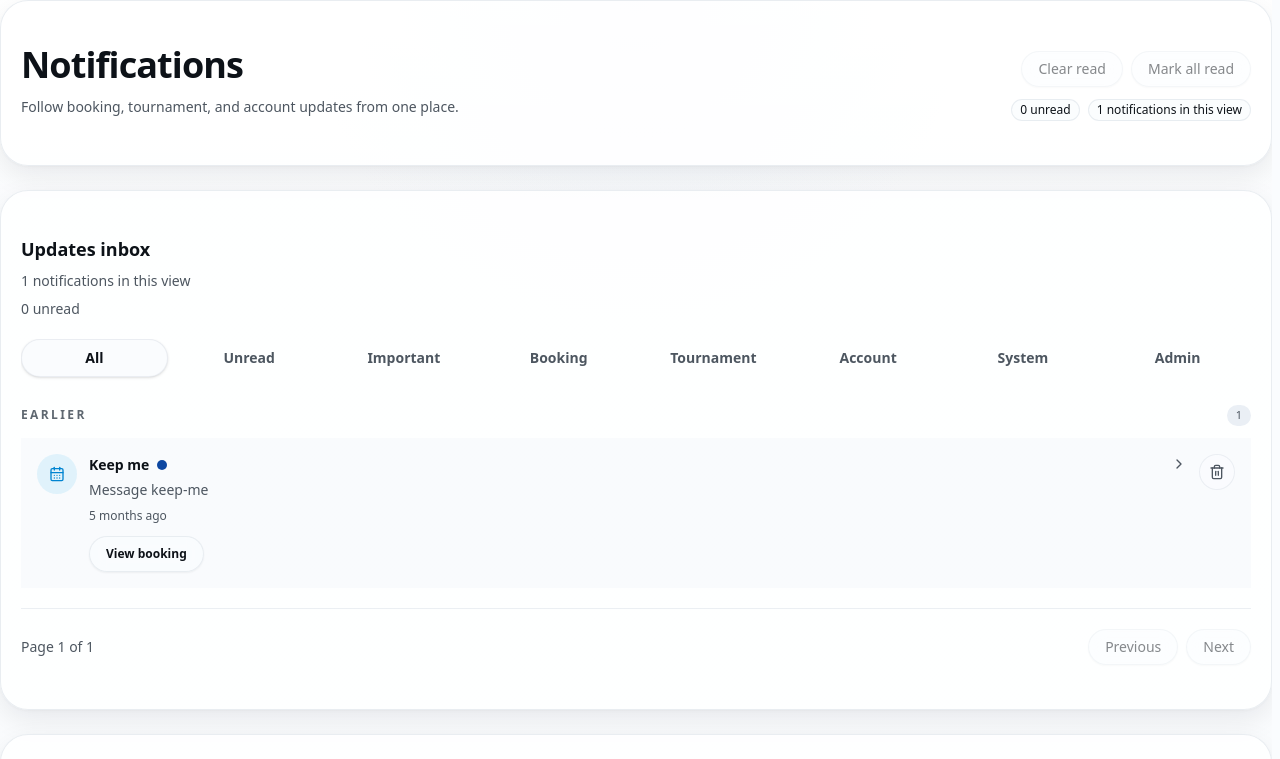
Scenario: NotificationsPage › keeps a notification when delete confirmation is cancelled
The width and height of the screenshot is (1280, 759).
Expected: the button "Keep me Message keep-me 5 months ago" is shown, [37,454,1187,524]
Step 1. Click the button named "Delete notification" → [1217, 472], box [1199,454,1235,490]
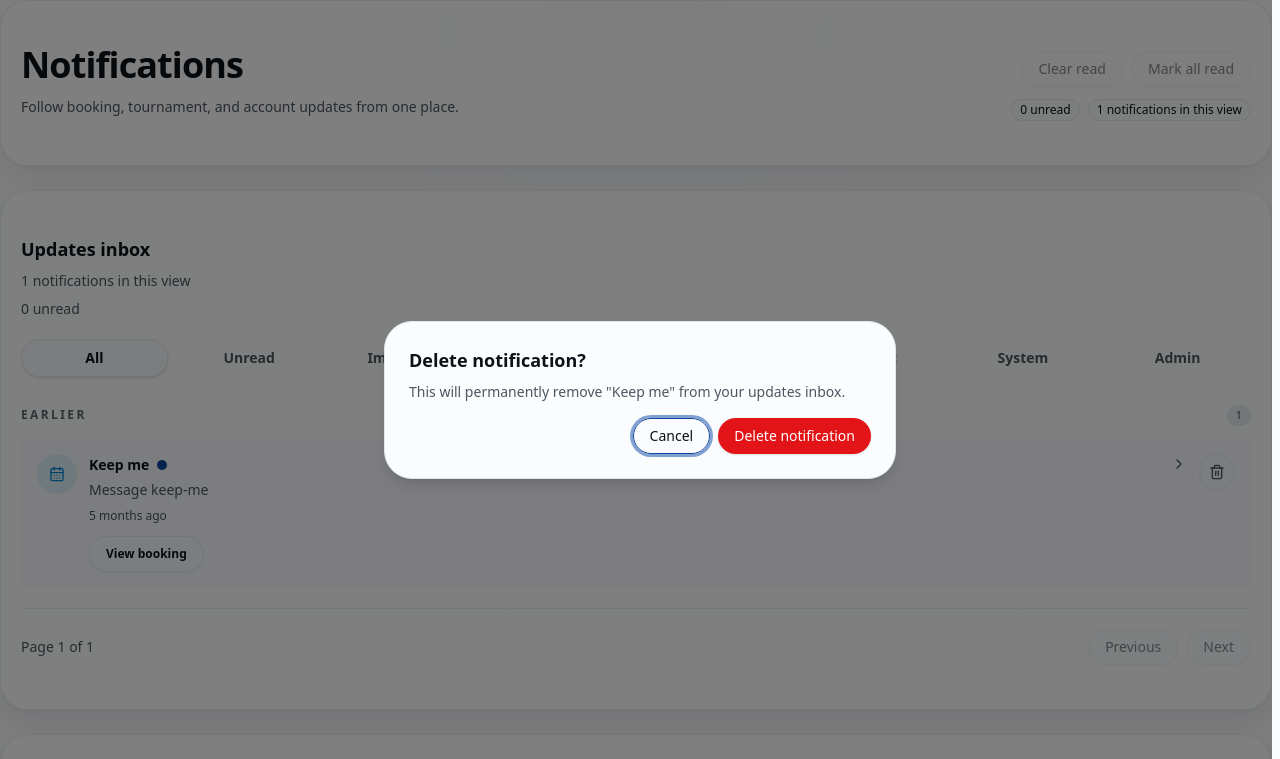
Step 2. Click the button "Cancel" → [671, 436], box [633,418,710,454]
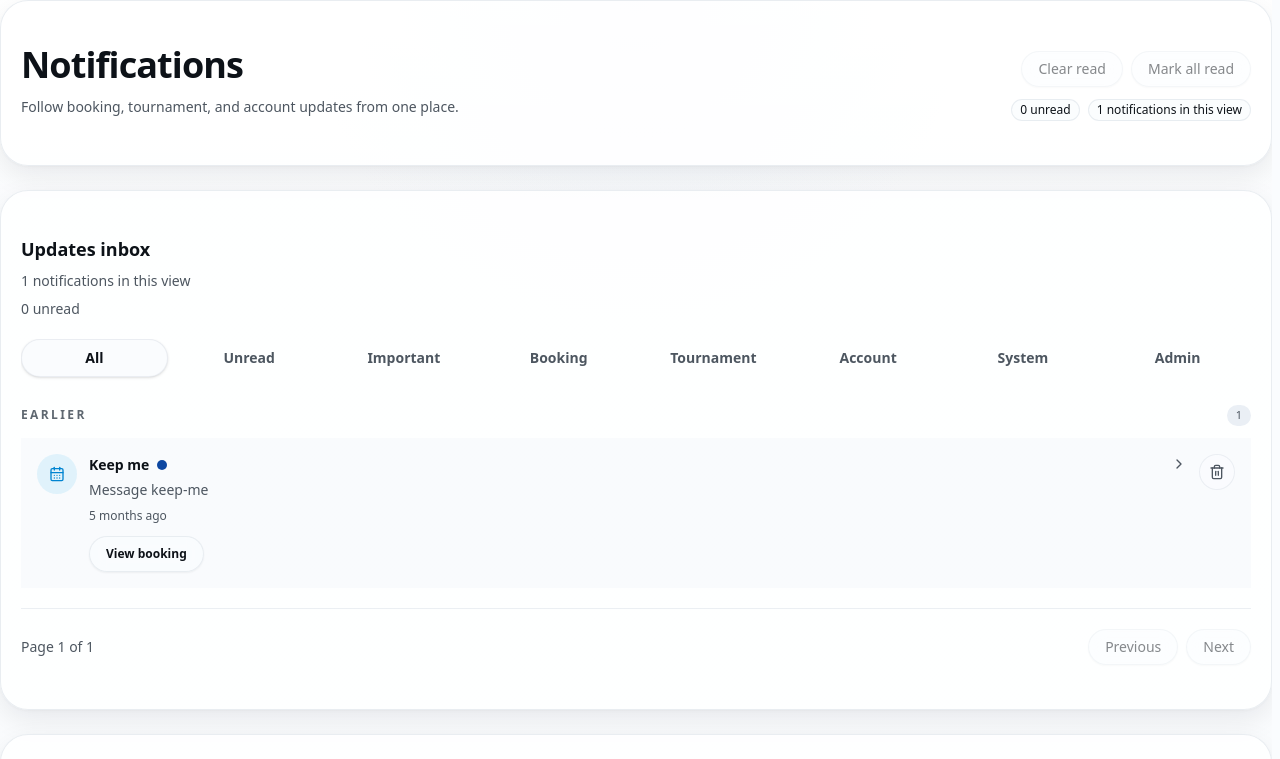
Expected: the button "Keep me Message keep-me 5 months ago" is shown, [37,454,1187,524]
Result: the dialog is gone
